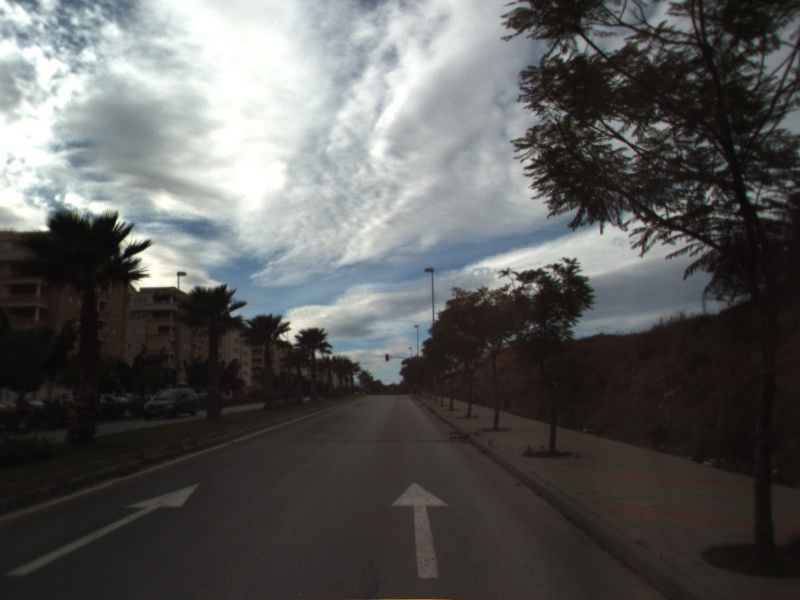STRAIGHT: (2, 481, 202, 578), (388, 480, 452, 580)
